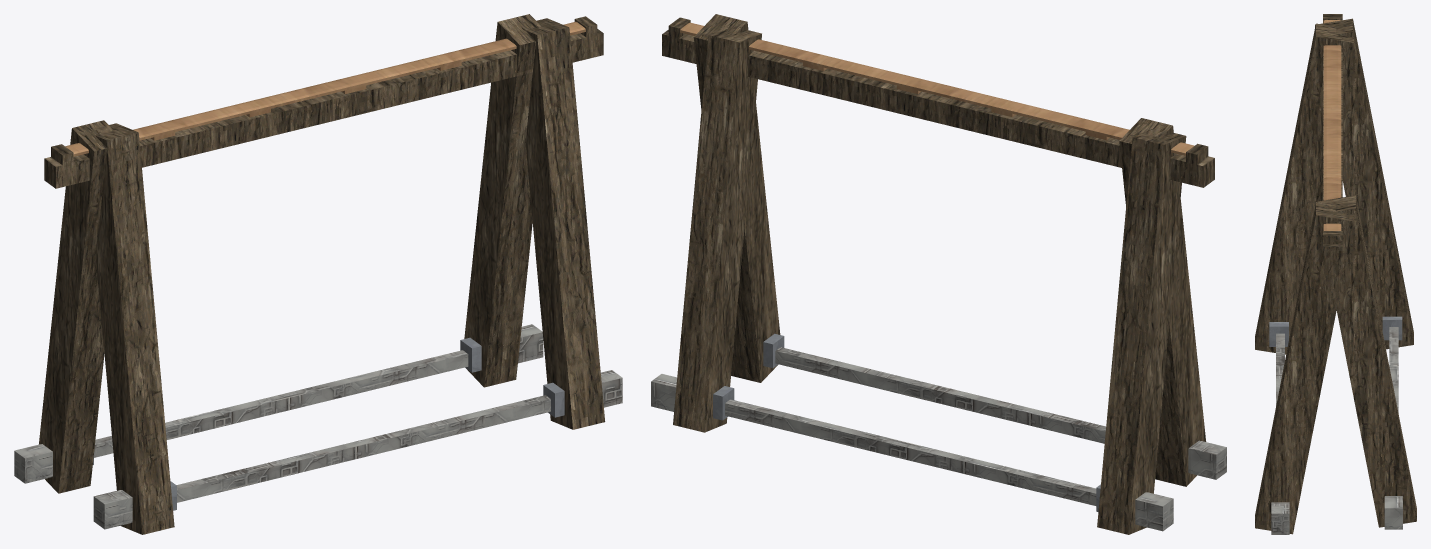
The model's file is WeaponRack.fbx.
3 views of the same model, side by side, from view 1: azimuth 30°, elevation 25°; view 2: azimuth 150°, elevation 25°; view 3: azimuth 270°, elevation 25° (orthographic). The views are drawn at different scales.
Visible parts, largest first — view 1: porch_floorCenter (×4), column_classic (×2), column_pole, detail_ladder; view 2: porch_floorCenter (×4), column_classic (×2), column_pole, detail_ladder; view 3: porch_floorCenter (×4), detail_ladder, column_classic (×2), column_pole (×4).
Boxes of the visible parts, x1=… form: porch_floorCenter (×4): x1=39, y1=14, x2=605, y2=534; column_classic (×2): x1=14, y1=324, x2=622, y2=529; column_pole: x1=44, y1=29, x2=603, y2=188; detail_ladder: x1=65, y1=21, x2=585, y2=156; porch_floorCenter (×4): x1=673, y1=14, x2=1206, y2=534; column_classic (×2): x1=651, y1=347, x2=1226, y2=531; column_pole: x1=662, y1=30, x2=1214, y2=187; detail_ladder: x1=680, y1=22, x2=1194, y2=155; porch_floorCenter (×4): x1=1255, y1=18, x2=1416, y2=534; detail_ladder: x1=1323, y1=20, x2=1341, y2=230; column_classic (×2): x1=1271, y1=327, x2=1402, y2=534; column_pole (×4): x1=1269, y1=52, x2=1402, y2=346.
Size of the model in its own units: 17.05 by 11.19 by 5.14.
4 materials, 4 textured.
